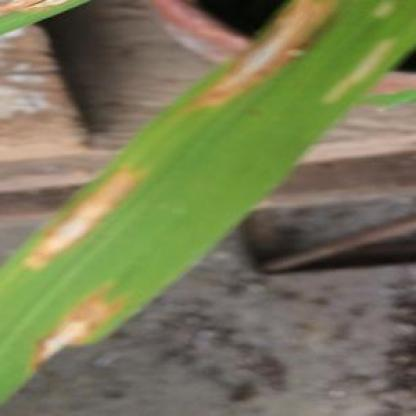Rice blast: (187, 1, 360, 116), (5, 165, 147, 276), (26, 277, 133, 378)
